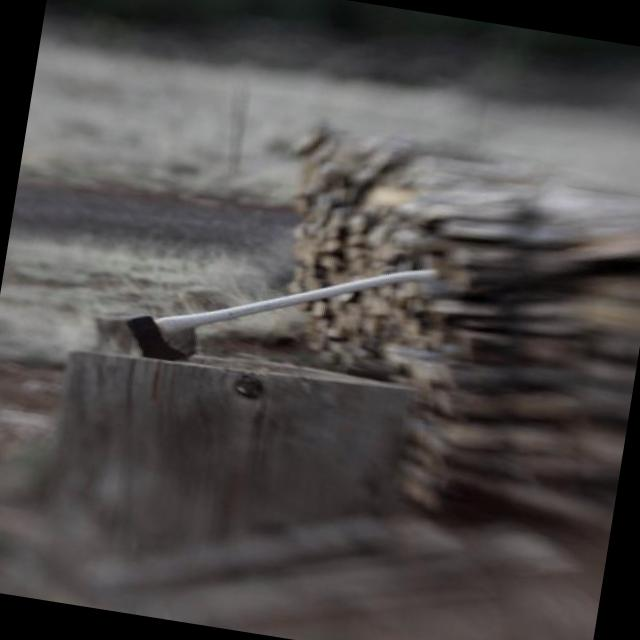Axe: (126, 271, 438, 360)
